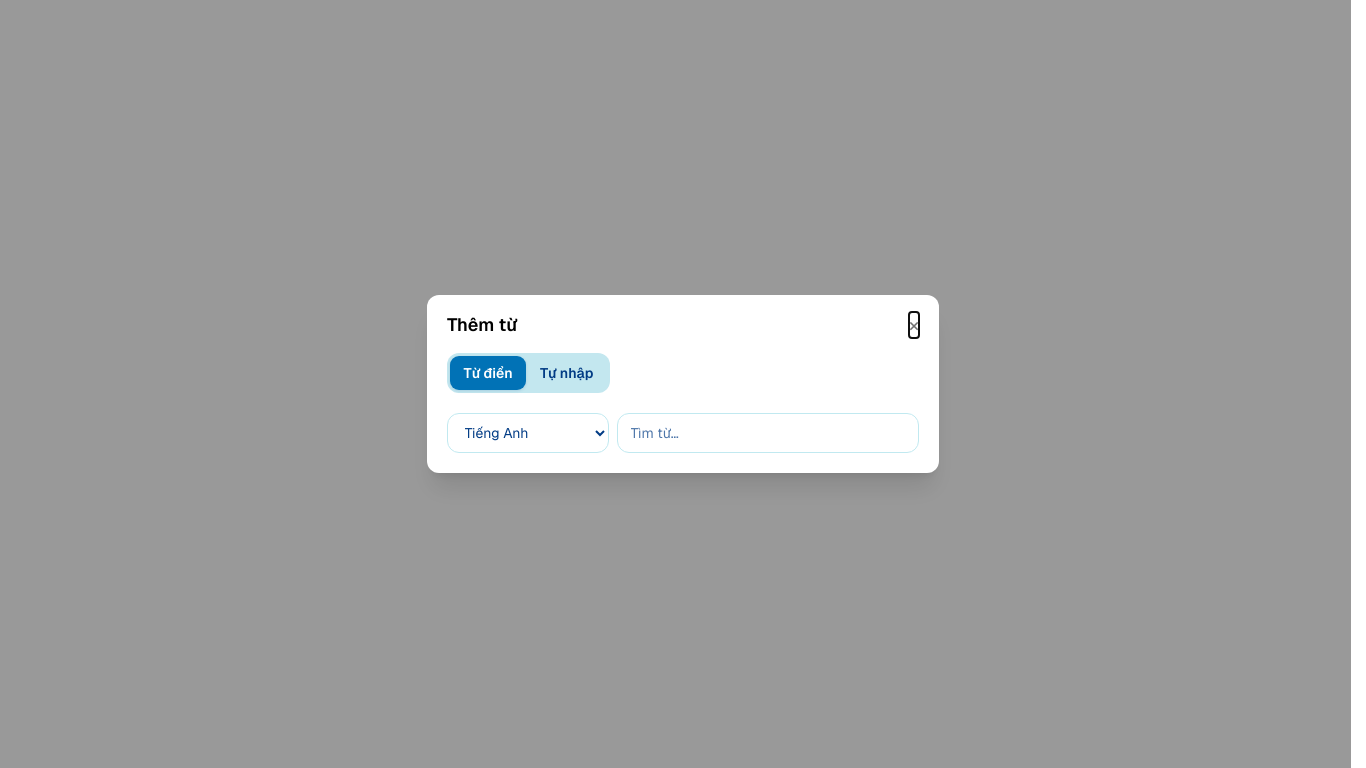
AddWordDialog › finds a word typed as its Vietnamese meaning
Type "con mèo" into the field with placeholder "Tìm từ…" at (768, 433), box [617,413,919,453]
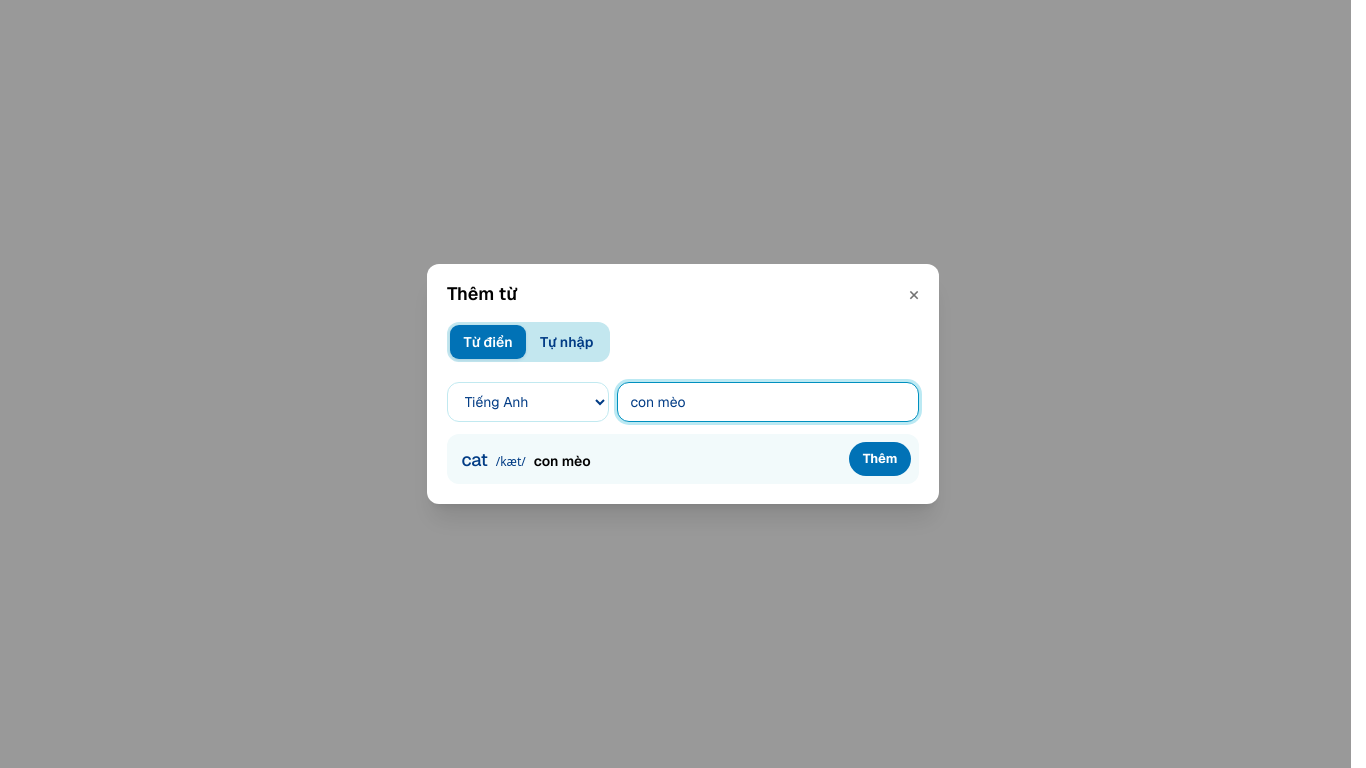
Expected: the text "cat" is shown, [461,448,488,471]
